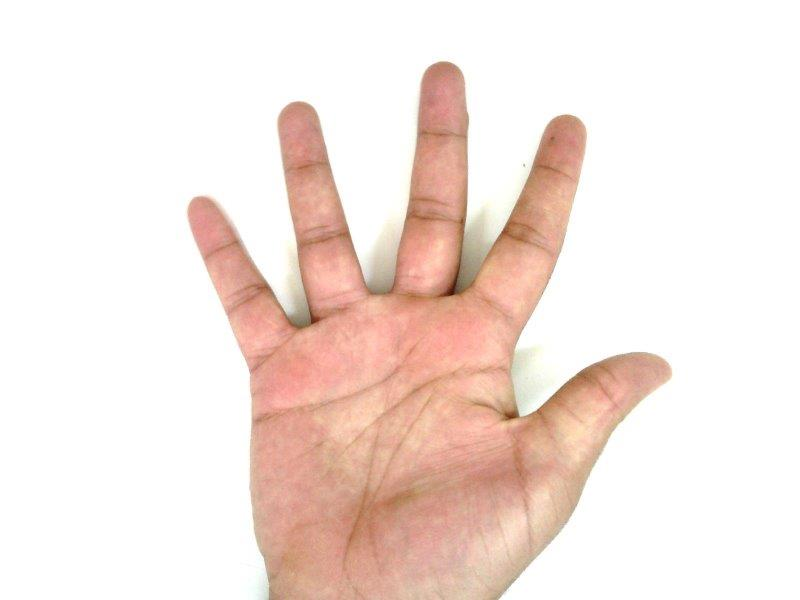hand: (187, 62, 672, 594)
